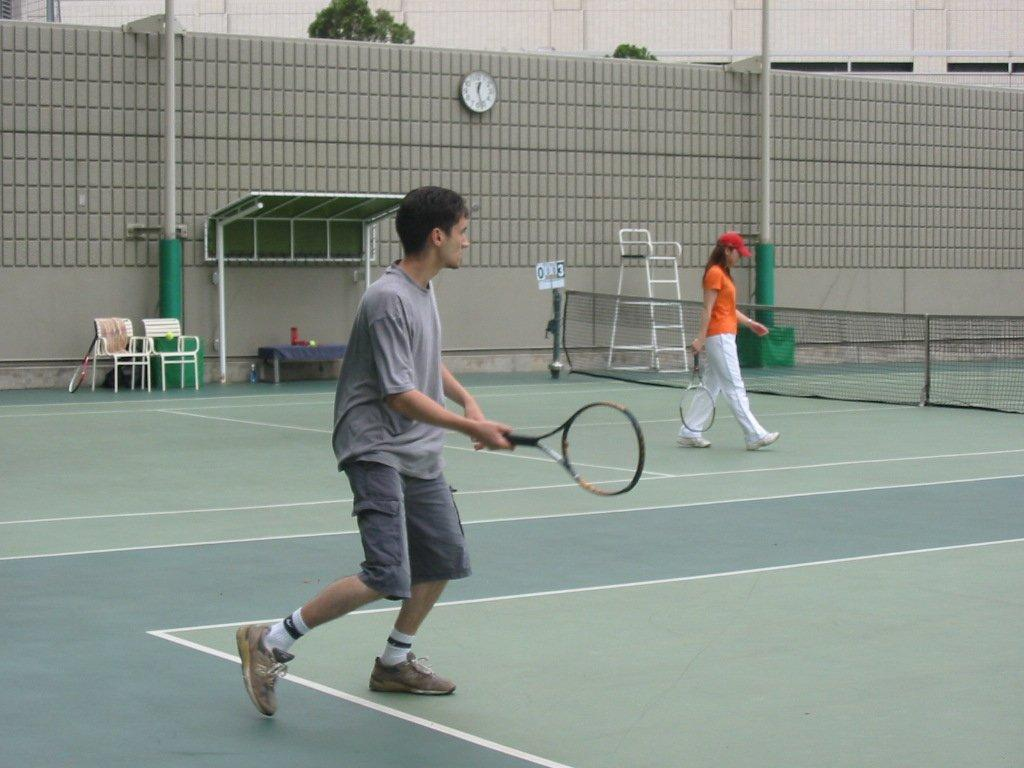face: (441, 211, 469, 268), (730, 247, 740, 266)
